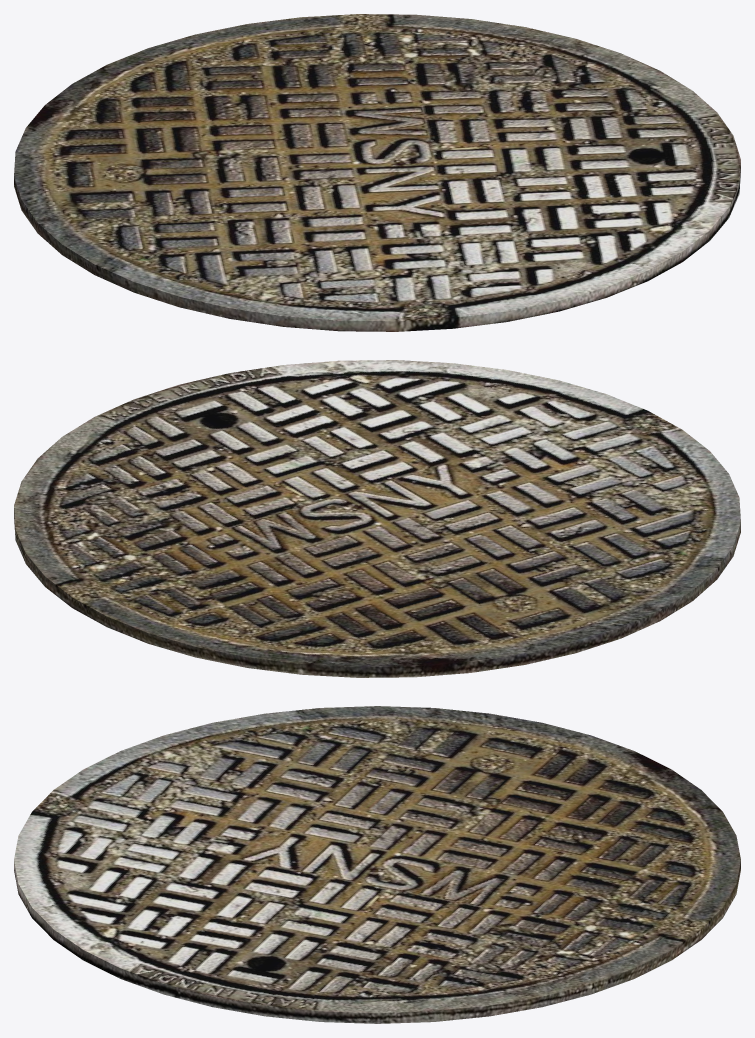
File: manhole_cover2.glb
3 renders of one model, top to bottom at view 1: azimuth 30°, elevation 25°; view 2: azimuth 150°, elevation 25°; view 3: azimuth 270°, elevation 25°, orthographic.
Visible parts, largest first — view 1: manhole_cover2; view 2: manhole_cover2; view 3: manhole_cover2.
Boxes of the visible parts, bbox=[...] form: manhole_cover2: bbox=[14, 14, 740, 331]; manhole_cover2: bbox=[14, 360, 740, 677]; manhole_cover2: bbox=[14, 706, 740, 1023].
Bounding box in the file's own units: 0.833 × 0.0135 × 0.833.
Materials: 1 (1 with a texture image).
